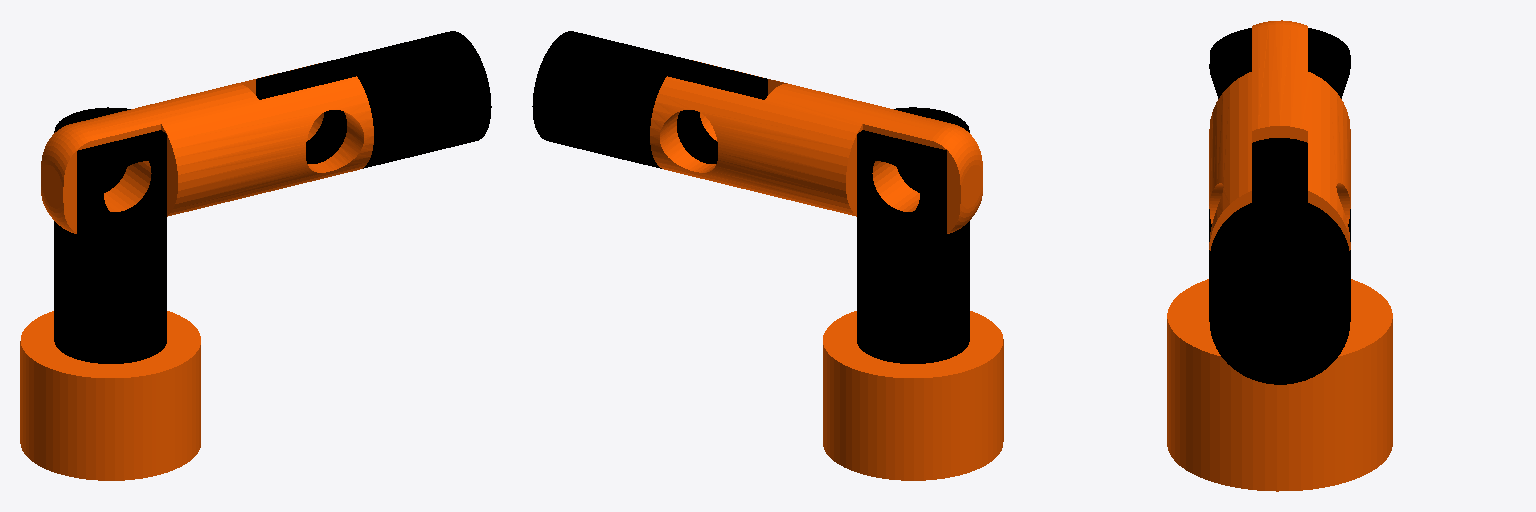
robot.urdf — robot_:
<?xml version='1.0' encoding='utf-8'?>
<robot name="robot_">
    <!-- add more codes -->
  <material name="Grey">
    <color rgba="0.2 0.2 0.2 1.0"/>
  </material>

  <material name="Orange">
    <color rgba="1.0 0.423529411765 0.0392156862745 1.0"/>
  </material>

  <material name="Black">
    <color rgba="0 0 0 1.0"/>      
  </material>

<!-- <link name="world"/> -->

  <link name="base_link">
  </link>

  <joint name="joint_0" type="fixed">
    <parent link="base_link"/>
    <child link="link_0"/>
    <origin rpy="0 0 0" xyz="0 0 0"/>
    <axis xyz="0 0 0"/>
  </joint>

  <link name="link_0">
    <visual>
      <origin rpy="0 0 0" xyz="0 0 0"/>
      <geometry>
        <mesh filename="package://get_a/meshes/link_0.STL"/>
      </geometry>
      <material name="Orange"/>
    </visual>
  </link>

  <joint name="joint_1" type="revolute">
    <parent link="link_0"/>
    <child link="link_1"/>
    <origin rpy="0 0 0" xyz="0 0 0.02"/>
    <axis xyz="0 0 1"/>
    <limit lower="-2" upper="2" effort="0.5" velocity="0.5"/>
  </joint>

  <link name="link_1">
    <visual>
      <origin rpy="0 0 0" xyz="0 0 0"/>
      <geometry>
        <mesh filename="package://get_a/meshes/link_1.STL"/>
      </geometry>
      <material name="Black"/>
    </visual>
  </link>

 <joint name="joint_2" type="revolute">
    <parent link="link_1"/>
    <child link="link_2"/>
    <origin rpy="1.57079632679 0 0" xyz="0 0 1.3"/>
    <axis xyz="0 0 1"/>
    <limit lower="-0.01" upper="2.36" effort="0.5" velocity="0.5"/>
  </joint>

  <link name="link_2">
    <visual>
      <origin rpy="0 0 0" xyz="0 0 0"/>
      <geometry>
        <mesh filename="package://get_a/meshes/link_2.STL"/>
      </geometry>
      <material name="Orange"/>
    </visual>
  </link>

  <joint name="joint_3" type="revolute">
    <parent link="link_2"/>
    <child link="link_3"/>
    <origin rpy="0 0 0" xyz="1 0 0"/>
    <axis xyz="0 0 1"/>
    <limit lower="-1.5" upper="1" effort="0.5" velocity="0.5"/>
  </joint>

  <link name="link_3">
    <visual>
      <origin rpy="0 0 0" xyz="0 0 0"/>
      <geometry>
        <mesh filename="package://get_a/meshes/link_3.STL"/>
      </geometry>
      <material name="Black"/>
    </visual>
  </link> 

  <joint name="joint_eff" type="fixed">
    <parent link="link_3"/>
    <child link="end_effector"/>
    <origin rpy="1.57079632679 0 1.57079632679" xyz="0.8 0 0.0"/>
    <axis xyz="0 0 1"/>
  </joint>


  <link name="end_effector">
  </link>  

</robot>

--- Render facts (derived) ---
The picture shows the robot from 3 angles, left to right: view 1: azimuth 30°, elevation 25°; view 2: azimuth 150°, elevation 25°; view 3: azimuth 270°, elevation 25°; orthographic projection.
Model robot_ with 6 links and 5 joints (3 revolute, 2 fixed), rooted at base_link, posed all joints at 0.
Visible links, largest first — view 1: link_2, link_0, link_1, link_3; view 2: link_2, link_0, link_1, link_3; view 3: link_0, link_3, link_2, link_1.
Boxes of the visible links, <box> form: link_2: <box>41,63,373,233</box>; link_0: <box>20,311,200,480</box>; link_1: <box>54,107,166,363</box>; link_3: <box>256,31,491,168</box>; link_2: <box>650,60,982,233</box>; link_0: <box>823,311,1003,480</box>; link_1: <box>857,107,969,363</box>; link_3: <box>532,31,767,168</box>; link_0: <box>1167,279,1392,491</box>; link_3: <box>1209,138,1350,384</box>; link_2: <box>1209,20,1350,250</box>; link_1: <box>1209,28,1350,299</box>.
Bounding box of the posed robot: 2.2 × 0.8 × 1.57 m (x, y, z).
4 mesh visuals loaded from 4 distinct referenced files (4 binary STL).